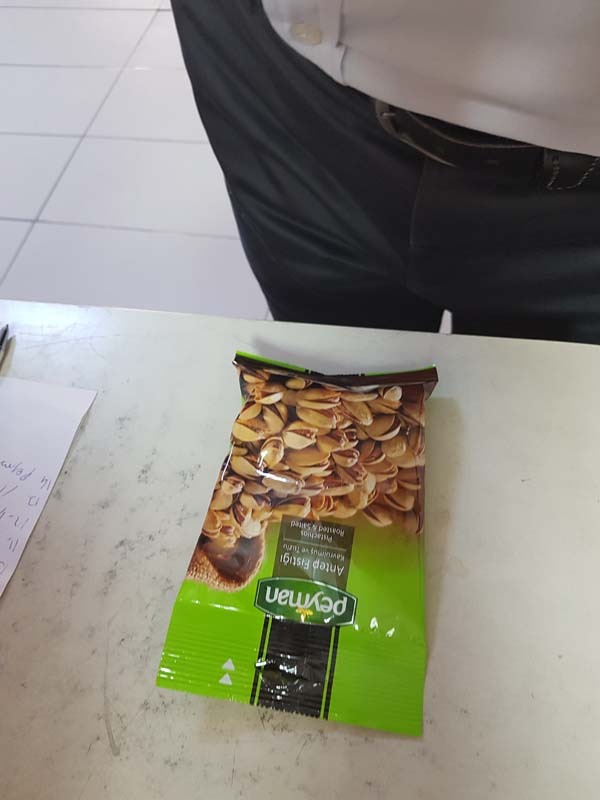antepfistigi: (153, 346, 442, 747)
